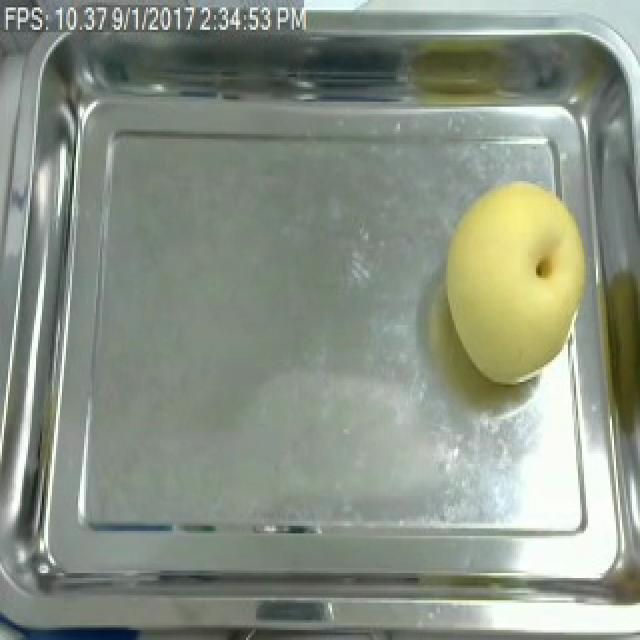Fruit: (432, 169, 606, 394)
